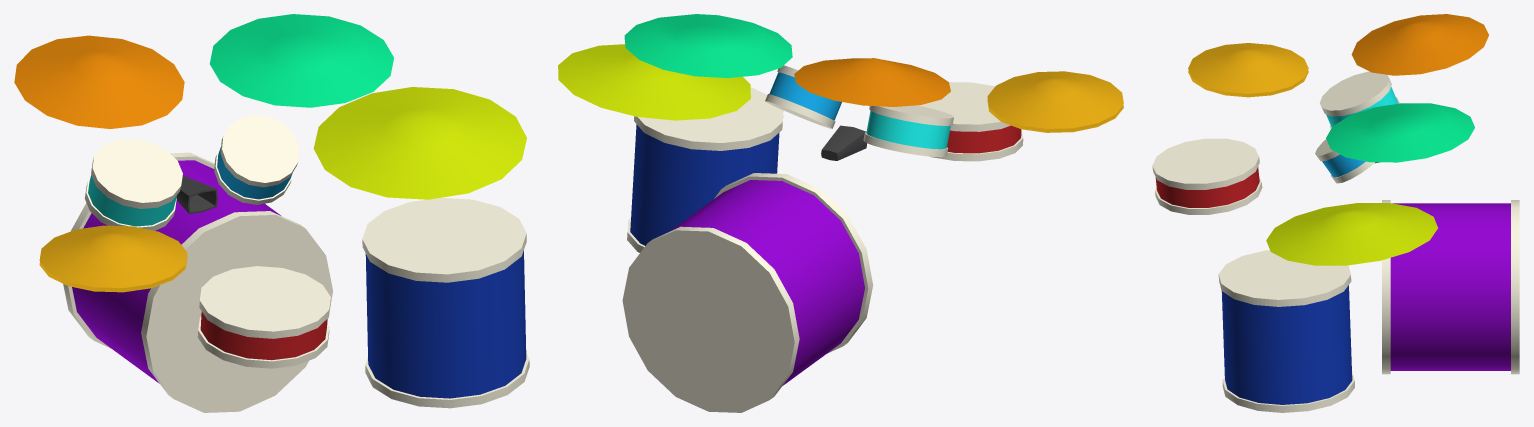
File: drumkit.glb
The picture shows the model from 3 angles, left to right: view 1: azimuth 30°, elevation 25°; view 2: azimuth 150°, elevation 25°; view 3: azimuth 270°, elevation 25°; orthographic projection. The views are drawn at different scales.
Visible parts, largest first — view 1: tom3, kick, ride, china, crash, snare, Hihat1, tom1, tom2, cowbell, Hihat2; view 2: kick, tom3, ride, china, Hihat1, crash, snare, tom1, tom2, cowbell, Hihat2; view 3: kick, tom3, ride, snare, china, crash, Hihat1, tom1, tom2, Hihat2.
Part boxes in pixels (<box>): tom3: <box>362,198,529,408</box>; kick: <box>63,152,332,412</box>; ride: <box>313,87,526,199</box>; china: <box>209,14,393,107</box>; crash: <box>14,35,184,128</box>; snare: <box>197,266,330,368</box>; Hihat1: <box>39,225,187,287</box>; tom1: <box>84,138,182,230</box>; tom2: <box>214,115,299,204</box>; cowbell: <box>176,176,217,213</box>; Hihat2: <box>39,256,187,292</box>; kick: <box>622,173,873,412</box>; tom3: <box>627,87,783,252</box>; ride: <box>558,44,750,120</box>; china: <box>624,14,792,78</box>; Hihat1: <box>987,71,1123,128</box>; crash: <box>794,58,950,106</box>; snare: <box>917,82,1023,161</box>; tom1: <box>863,105,953,157</box>; tom2: <box>765,65,841,128</box>; cowbell: <box>821,125,866,160</box>; Hihat2: <box>987,100,1123,132</box>; kick: <box>1382,200,1519,374</box>; tom3: <box>1218,250,1354,412</box>; ride: <box>1266,203,1437,265</box>; snare: <box>1152,138,1262,214</box>; china: <box>1326,103,1474,162</box>; crash: <box>1351,14,1488,75</box>; Hihat1: <box>1188,43,1308,93</box>; tom1: <box>1320,71,1399,128</box>; tom2: <box>1315,139,1374,183</box>; Hihat2: <box>1188,70,1308,97</box>.
Size of the model in its own units: 2.34 by 1.55 by 1.74.
